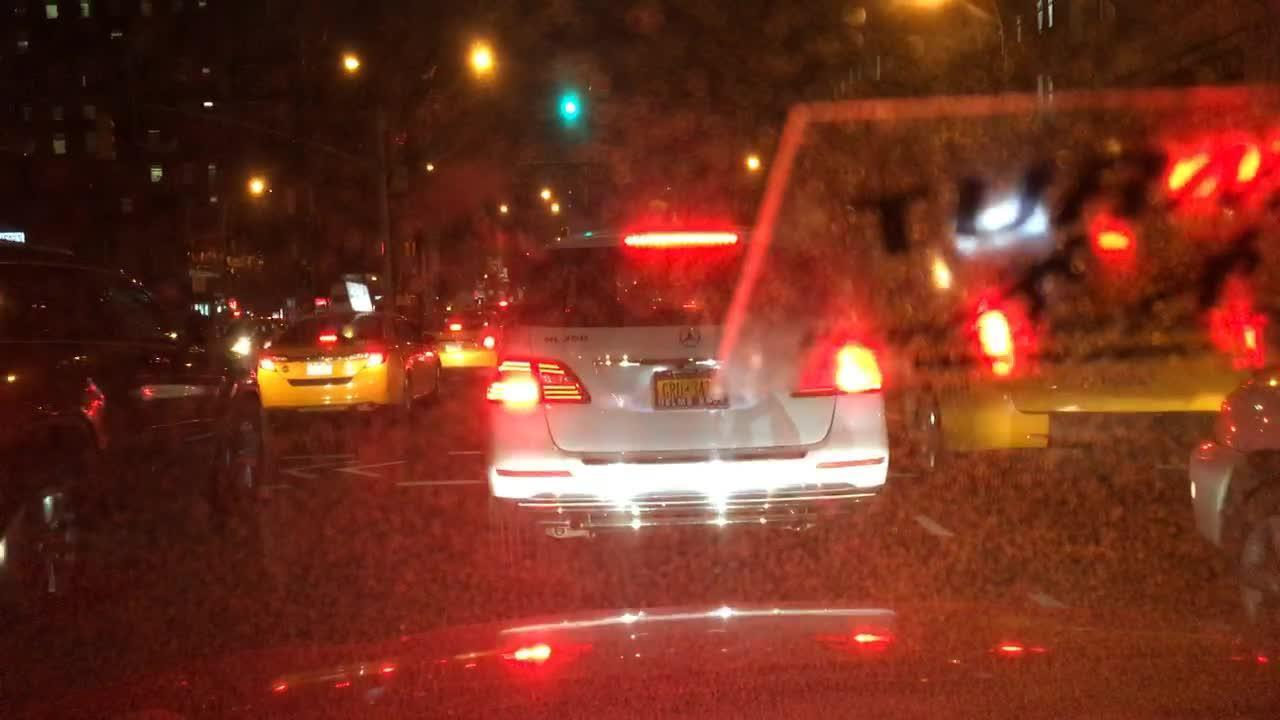Mercedes: (667, 315, 711, 352)
